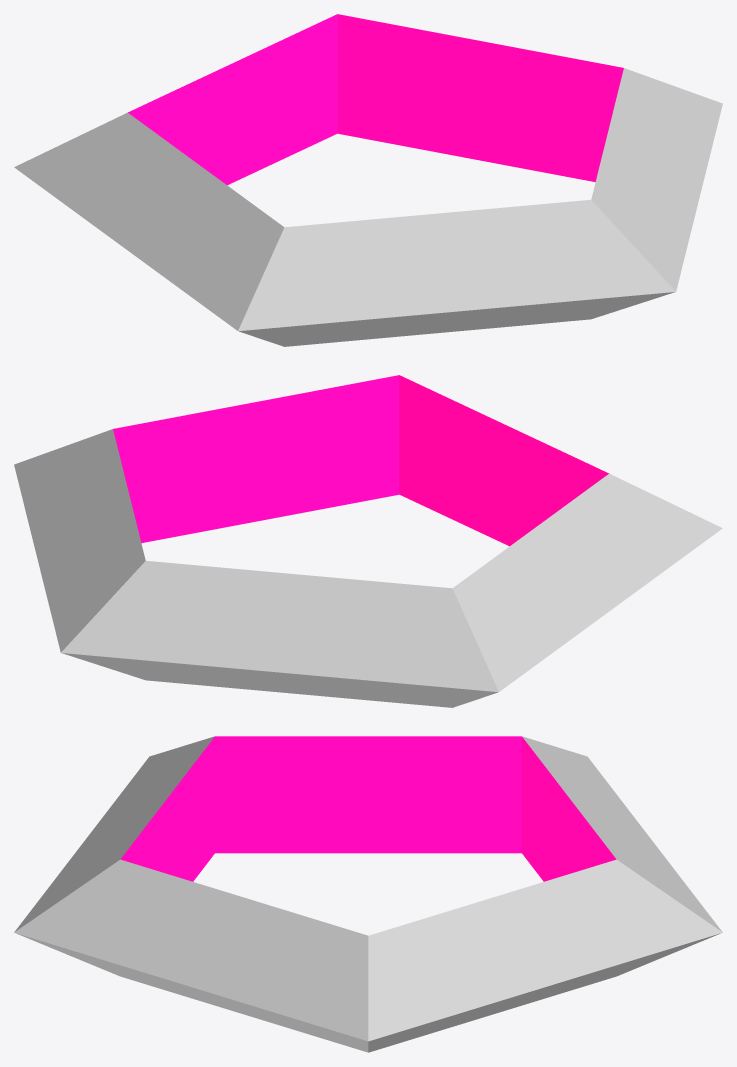
Rendered from enemy3.fbx.
3 renders of one model, top to bottom at view 1: azimuth 30°, elevation 25°; view 2: azimuth 150°, elevation 25°; view 3: azimuth 270°, elevation 25°, orthographic. The views are drawn at different scales.
Parts seen in each view (by area): view 1: Torus.006; view 2: Torus.006; view 3: Torus.006.
Boxes of the visible parts, <box> form: Torus.006: <box>14,14,722,346</box>; Torus.006: <box>14,375,722,707</box>; Torus.006: <box>14,736,722,1052</box>.
Bounding box in the file's own units: 226 × 43.3 × 238.
